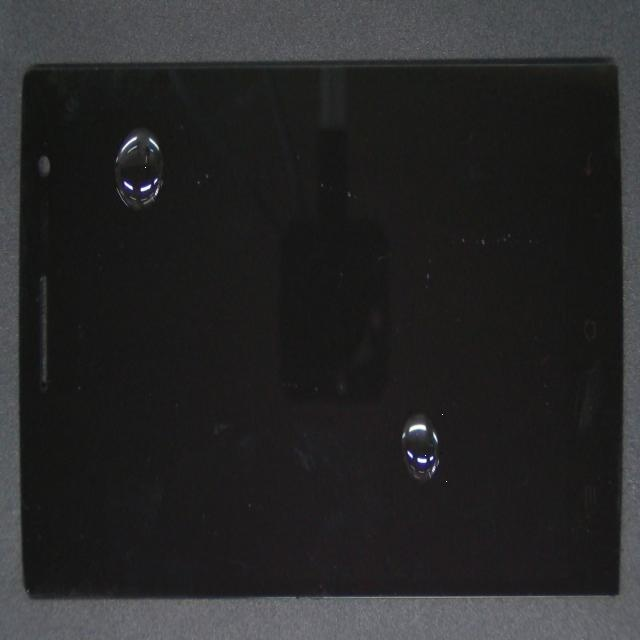oil: (223, 200, 628, 613), (77, 47, 190, 203)
